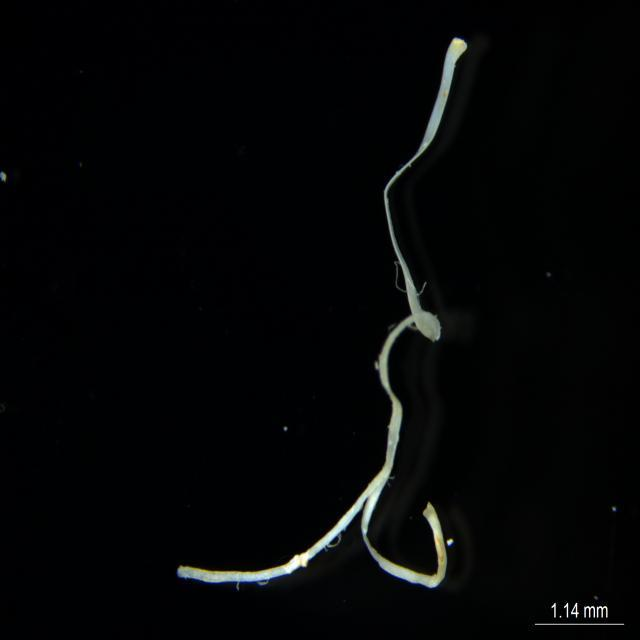fibers: (176, 27, 468, 593)
